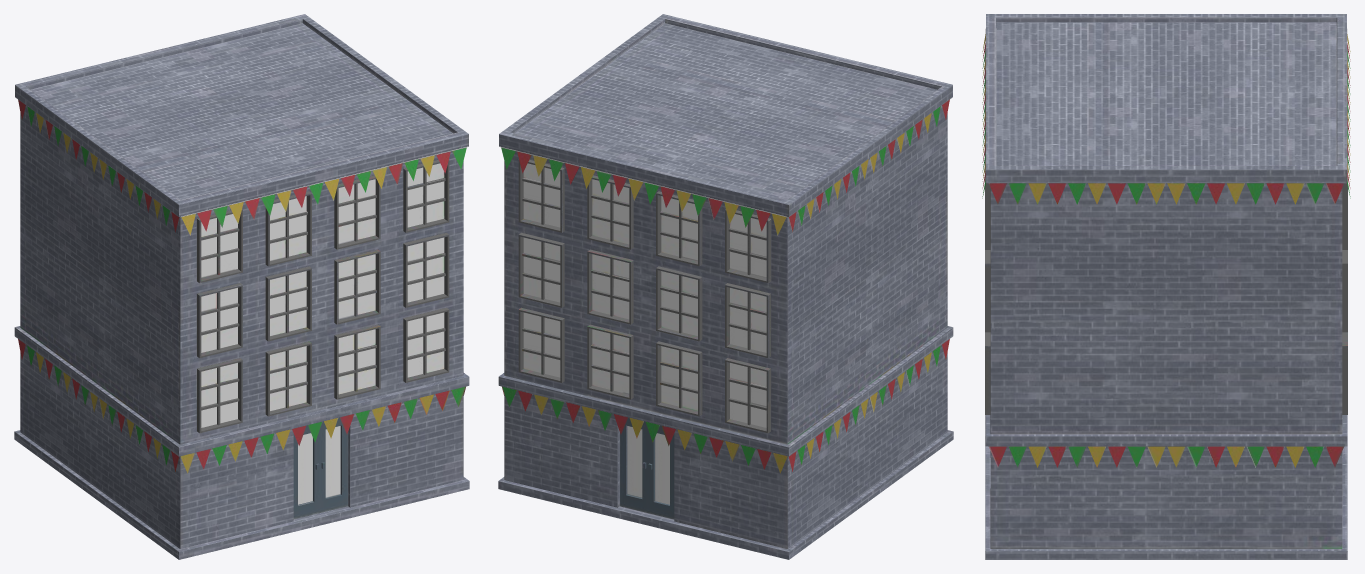
The model's file is BUILDING_CorporateHumor_1.1.fbx.
3 renders of one model, left to right at view 1: azimuth 30°, elevation 25°; view 2: azimuth 150°, elevation 25°; view 3: azimuth 270°, elevation 25°, orthographic. The views are drawn at different scales.
Visible parts, largest first — view 1: BUILDING_CorporateHumor_1.1_Baked; view 2: BUILDING_CorporateHumor_1.1_Baked; view 3: BUILDING_CorporateHumor_1.1_Baked.
Boxes of the visible parts, bbox=[...] form: BUILDING_CorporateHumor_1.1_Baked: bbox=[14, 14, 469, 559]; BUILDING_CorporateHumor_1.1_Baked: bbox=[498, 14, 953, 559]; BUILDING_CorporateHumor_1.1_Baked: bbox=[982, 14, 1350, 559].
Bounding box in the file's own units: 123 × 144 × 123.
1 material, 1 textured.
